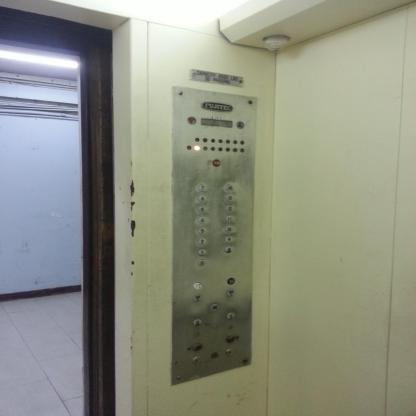1: (197, 248, 207, 256)
10: (225, 226, 233, 232)
11: (225, 215, 233, 222)
12: (226, 205, 233, 211)
13: (226, 194, 233, 200)
14: (226, 184, 233, 191)
2: (197, 238, 206, 245)
3: (198, 227, 206, 235)
4: (198, 216, 206, 224)
5: (198, 206, 207, 212)
6: (198, 194, 206, 202)
7: (198, 184, 206, 192)
9: (225, 236, 233, 242)
G: (198, 259, 206, 266)
blur: (192, 282, 202, 290), (192, 343, 202, 351), (226, 312, 235, 320), (192, 319, 202, 326), (227, 278, 235, 286), (227, 289, 235, 297), (193, 294, 201, 302), (210, 303, 218, 311), (225, 335, 233, 343), (224, 246, 232, 253)
down: (187, 116, 197, 125)
indicator: (194, 136, 200, 142), (202, 137, 208, 143), (194, 145, 200, 151), (210, 138, 216, 143), (186, 145, 192, 150), (232, 147, 238, 152), (218, 139, 223, 144), (225, 147, 230, 152), (202, 146, 208, 150), (226, 139, 230, 144), (240, 140, 244, 145), (210, 146, 215, 150), (218, 147, 223, 151), (240, 148, 244, 153), (233, 140, 237, 144)
keyhole: (192, 356, 201, 364), (226, 348, 234, 356)
text_ALARM: (212, 158, 220, 166)
up: (236, 121, 244, 129)
